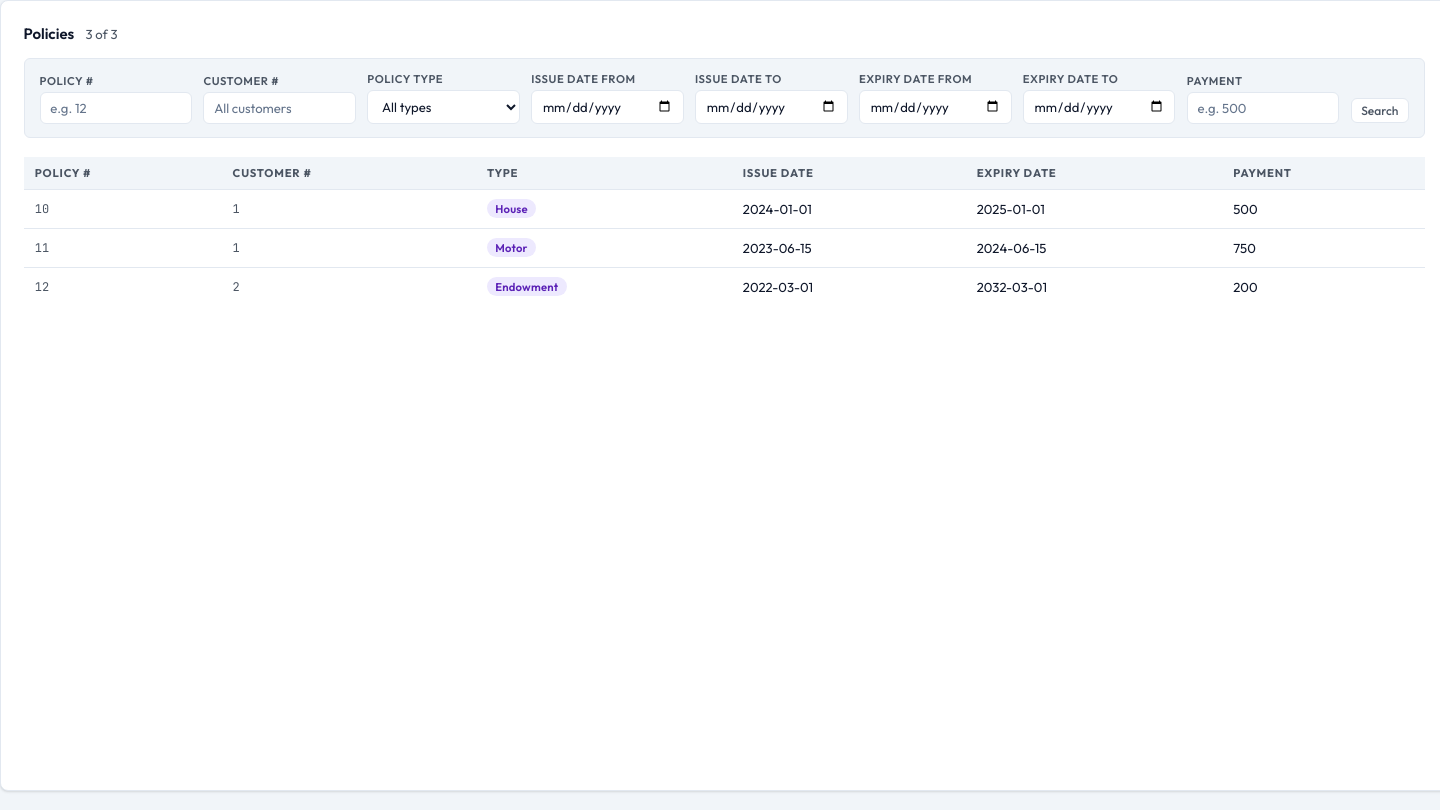
Test: PolicyList – detail panel › clicking Delete shows a confirmation warning with cascade note
Click the row "10 1 House 2024-01-01 2025-01-01 500" at (724, 208), box [24,189,1425,228]
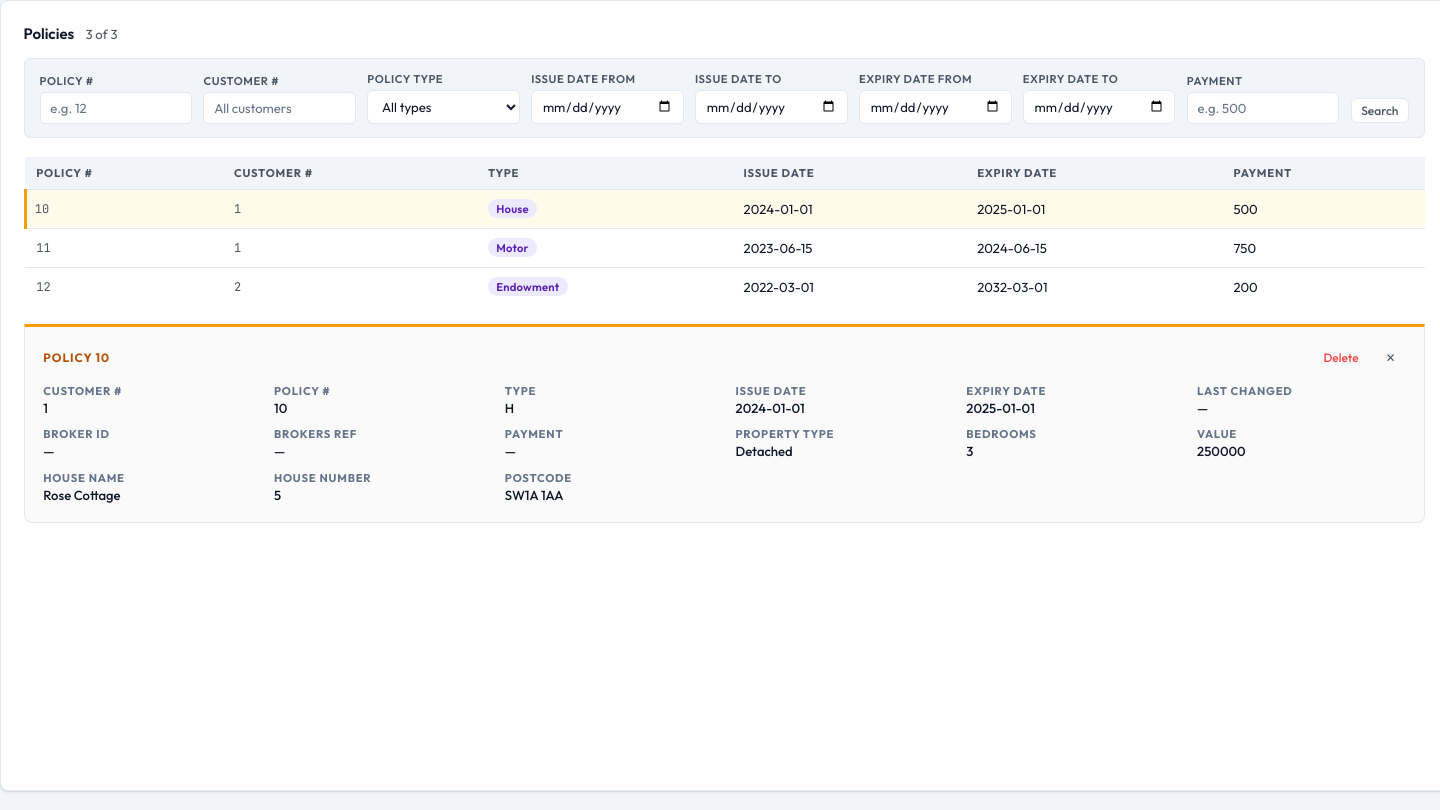
Click the button "Delete" at (1341, 357), box [1314,346,1368,368]
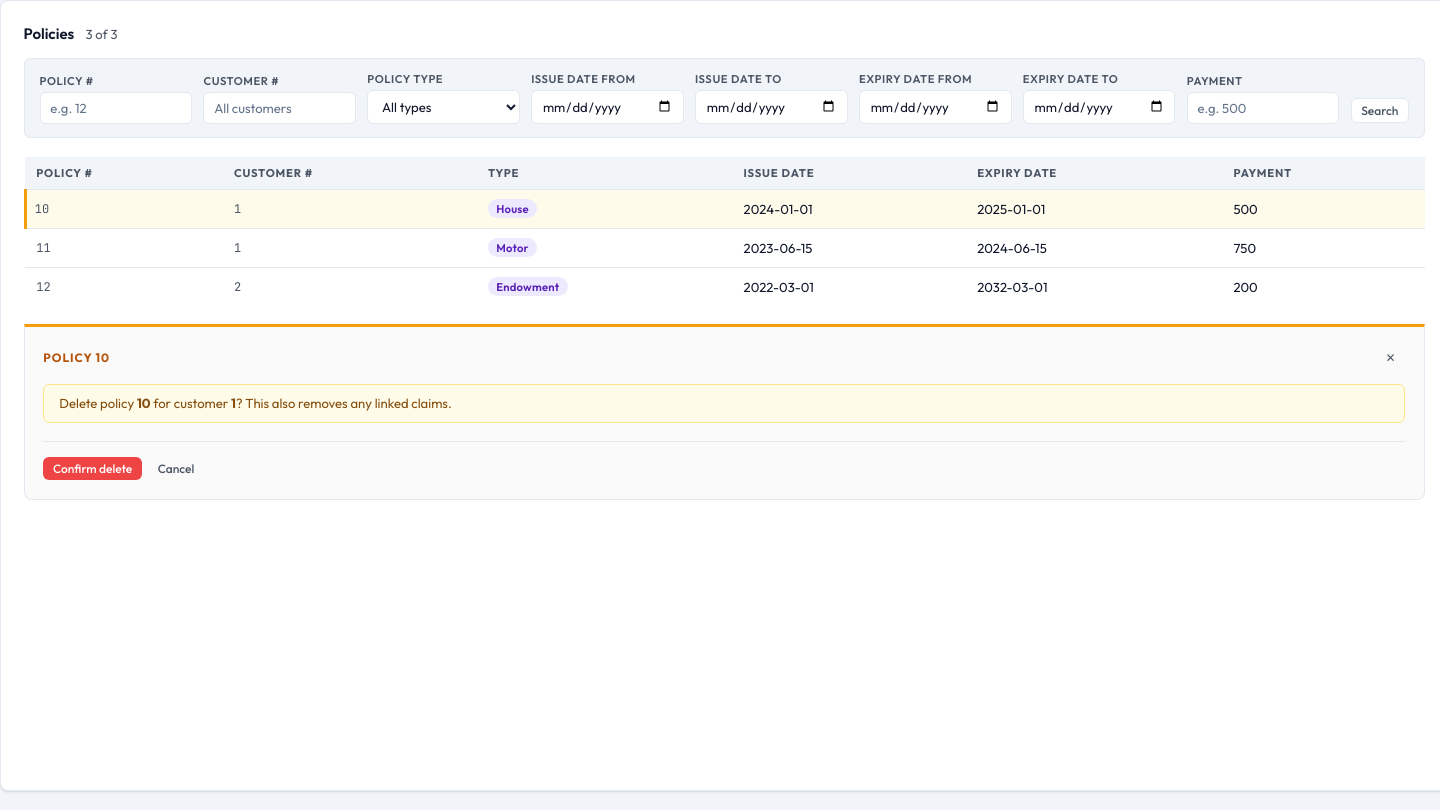
Result: the button "Confirm delete" is shown at [43,457,142,480]
Result: the text "linked claims" is shown at [236,395,452,411]
